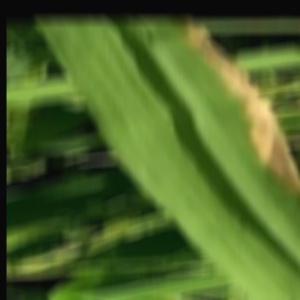Leaf_Blast: (167, 92, 285, 266)
